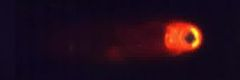keyhole: (183, 30, 199, 46)
